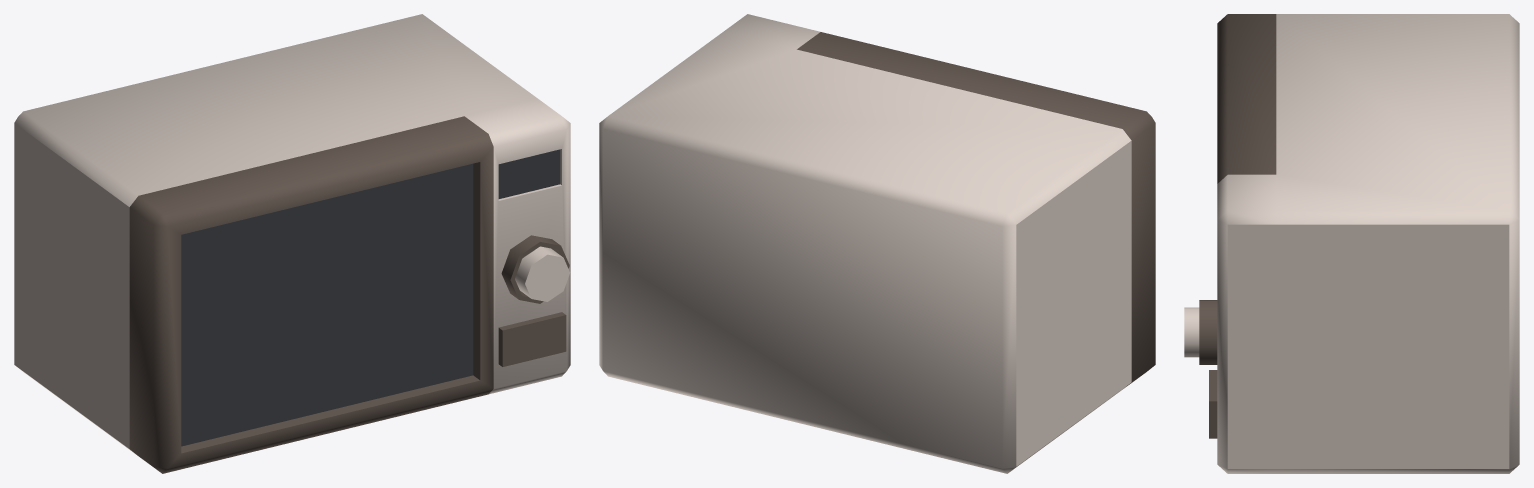
Rendered from 60_prop_microwave range.FBX.
The picture shows the model from 3 angles, left to right: view 1: azimuth 30°, elevation 25°; view 2: azimuth 150°, elevation 25°; view 3: azimuth 270°, elevation 25°; orthographic projection.
Parts seen in each view (by area): view 1: prop_microwave range; view 2: prop_microwave range; view 3: prop_microwave range.
Part boxes in pixels (<box>): prop_microwave range: <box>14,14,570,473</box>; prop_microwave range: <box>599,14,1155,473</box>; prop_microwave range: <box>1184,14,1519,473</box>.
Size of the model in its own units: 48.74 by 29.1 by 33.61.
